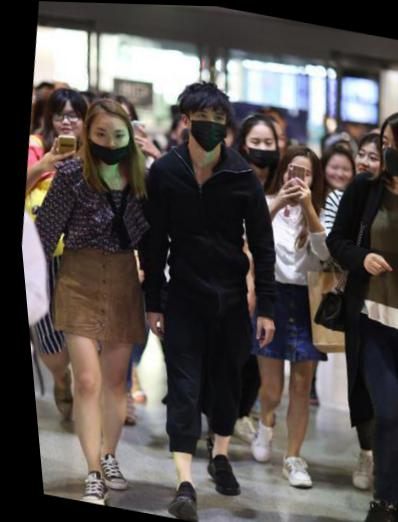NONE: (346, 142, 388, 182), (276, 160, 317, 198), (50, 105, 84, 139), (320, 156, 351, 188)
OK: (180, 102, 231, 151), (375, 128, 398, 177)
WRONG: (82, 120, 131, 167), (239, 127, 280, 168)
